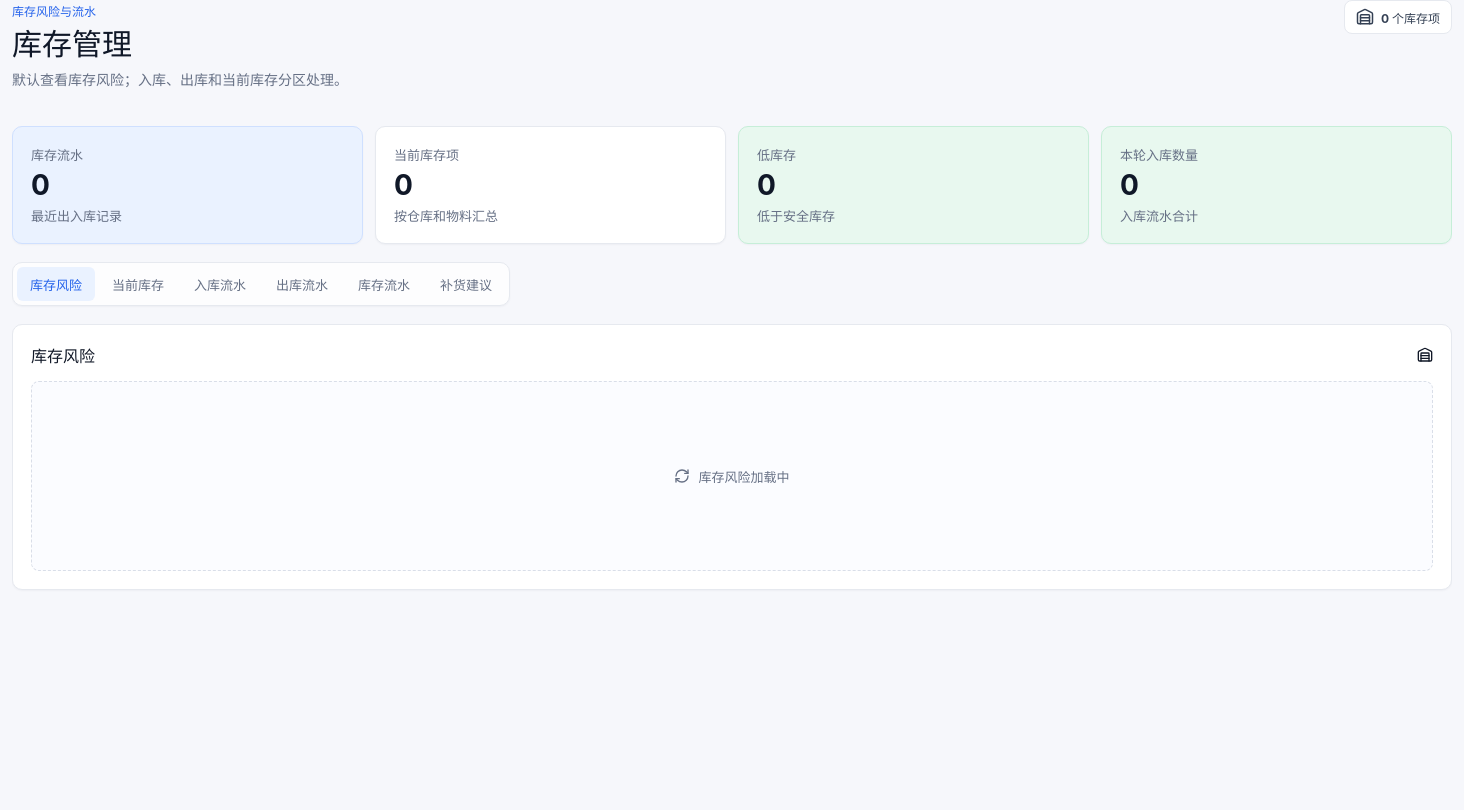
it: UI subtractive refactor rendered surfaces › keeps inventory, contracts, and master-data create flows out of the default page body
Click the tab "入库流水" at (220, 284), box [181, 268, 259, 302]
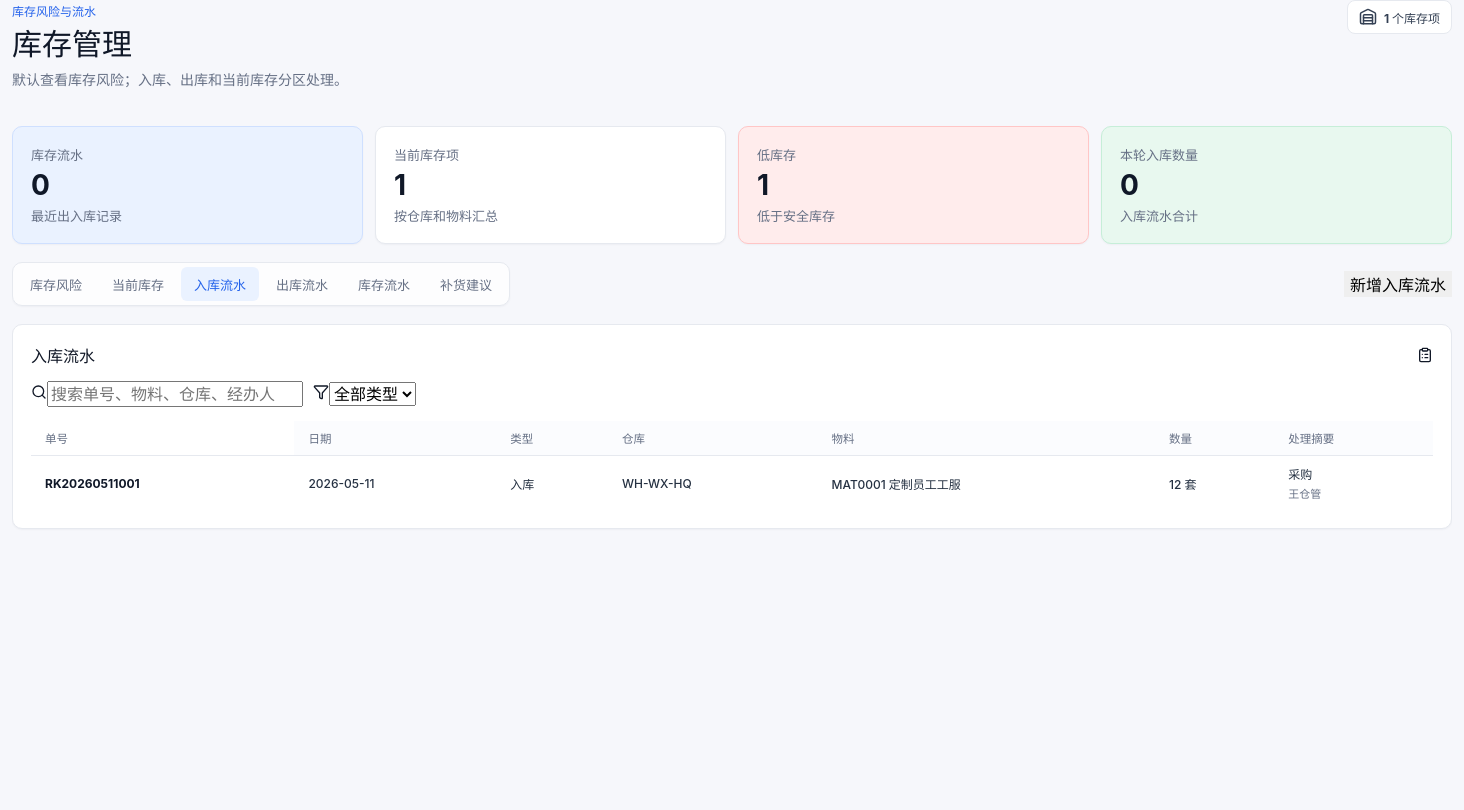
Result: the button "新增入库流水" is shown at [1344, 272, 1452, 298]
